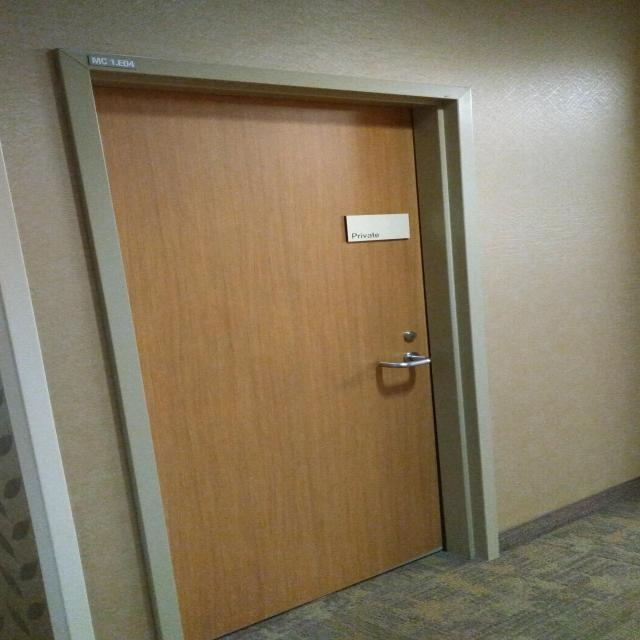Handle: (358, 334, 451, 394)
door: (86, 73, 493, 635)
